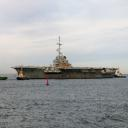Portanaves: (12, 36, 122, 82)
